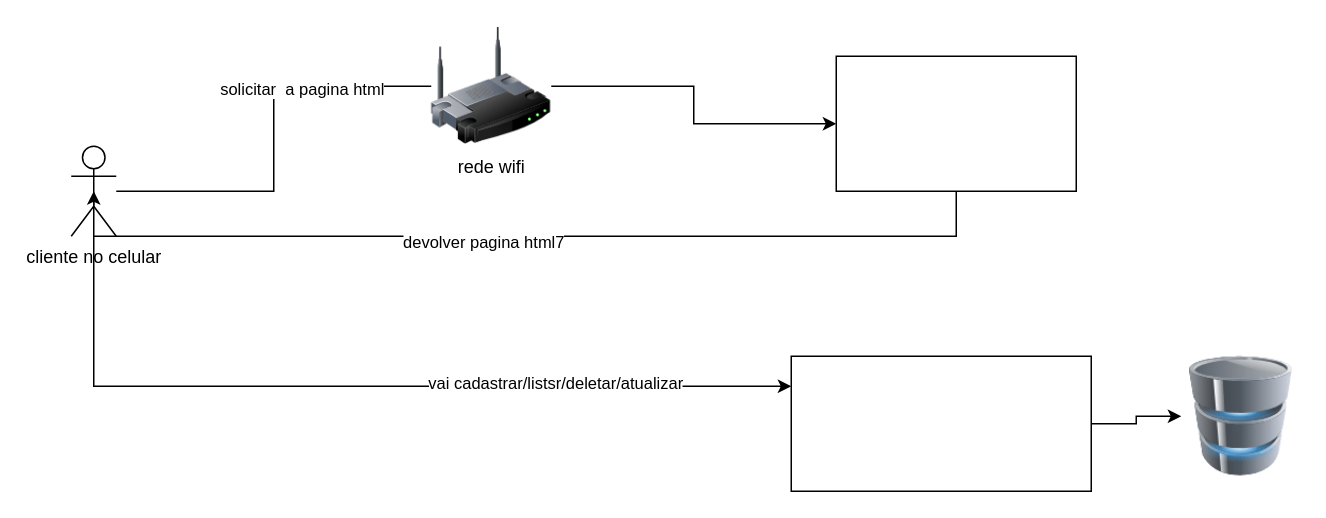
This 1326x518 diagram has some shape labels left out. The shapes that lost their labels are listed below. From the top down, each one's centre as x and y in pixels, then its label:
At (x=955, y=123): "servidor com a pagina html".
At (x=940, y=423): "servidor back-end com dados".
